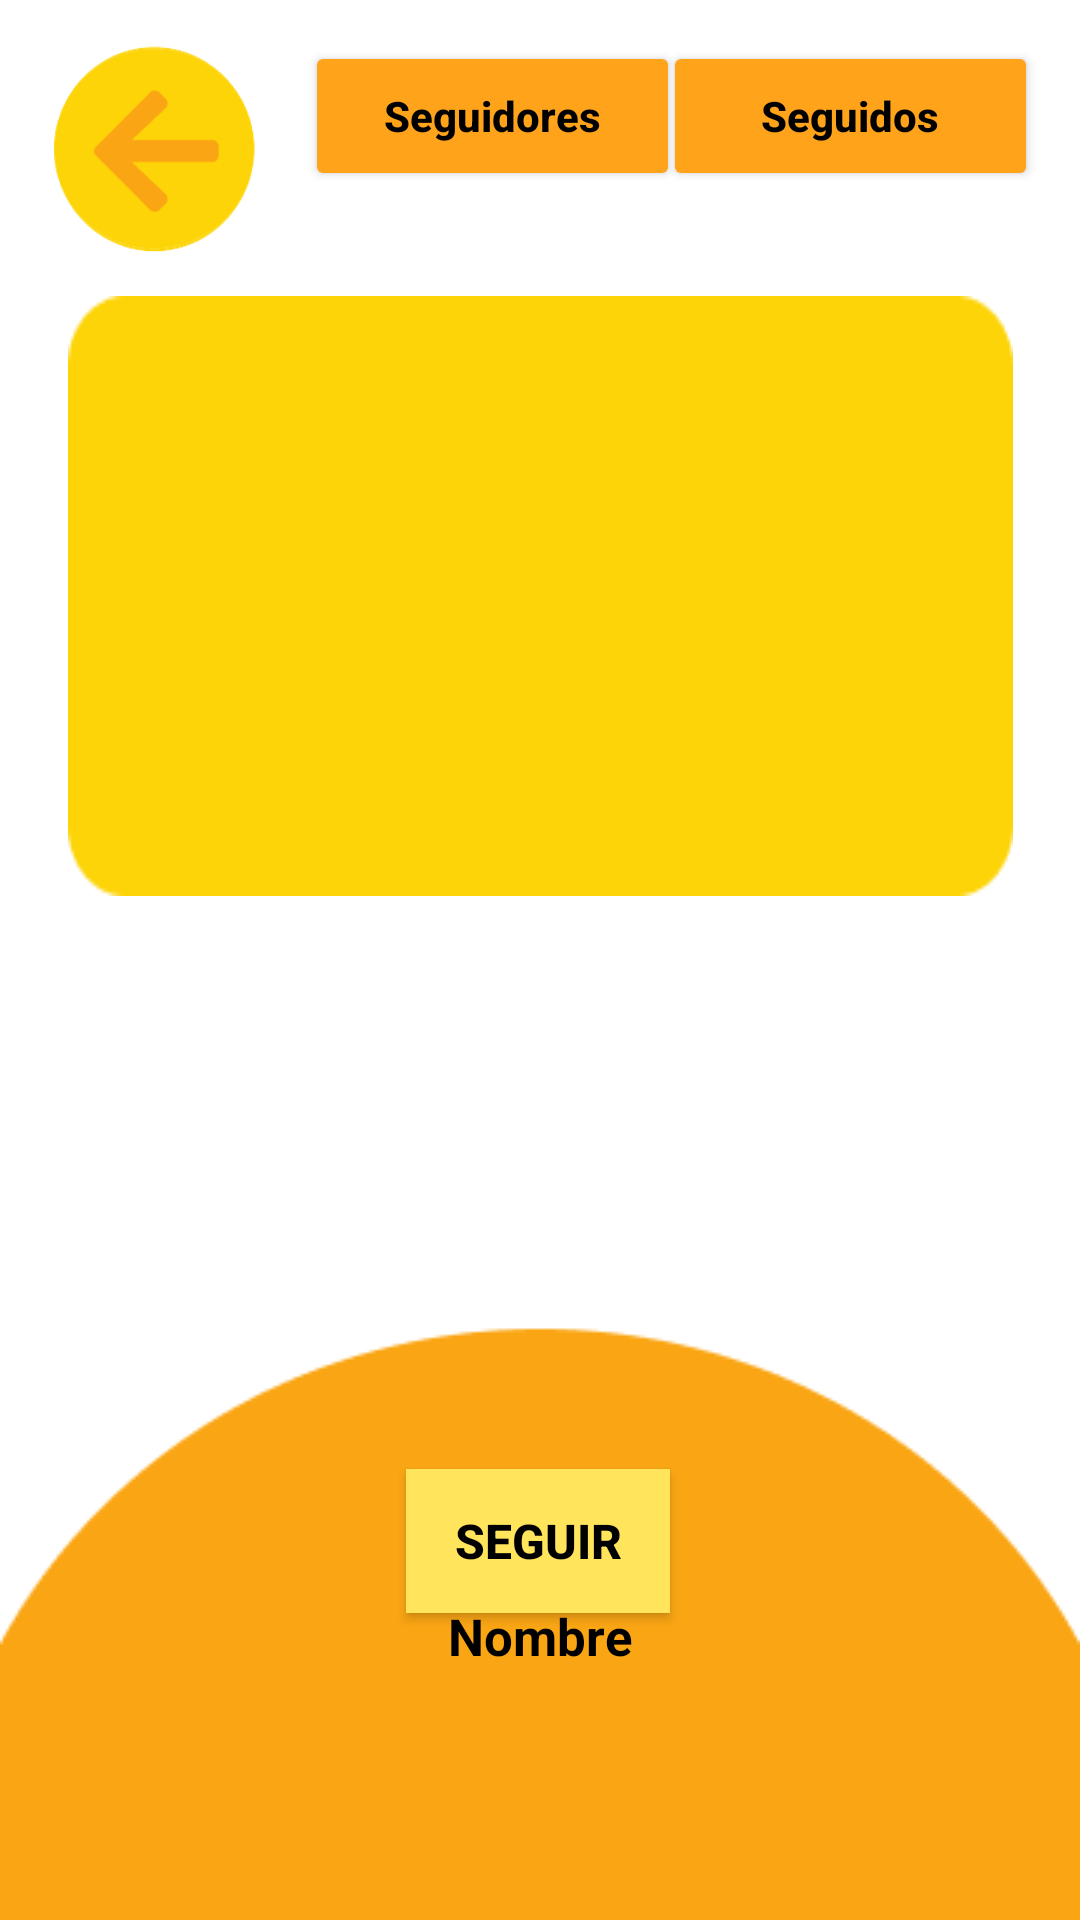

Icons on this 1080 x 1920 Android screen, each with its box as BBox(x1, y1, x2, y2):
btnvolver: BBox(54, 46, 255, 252)
